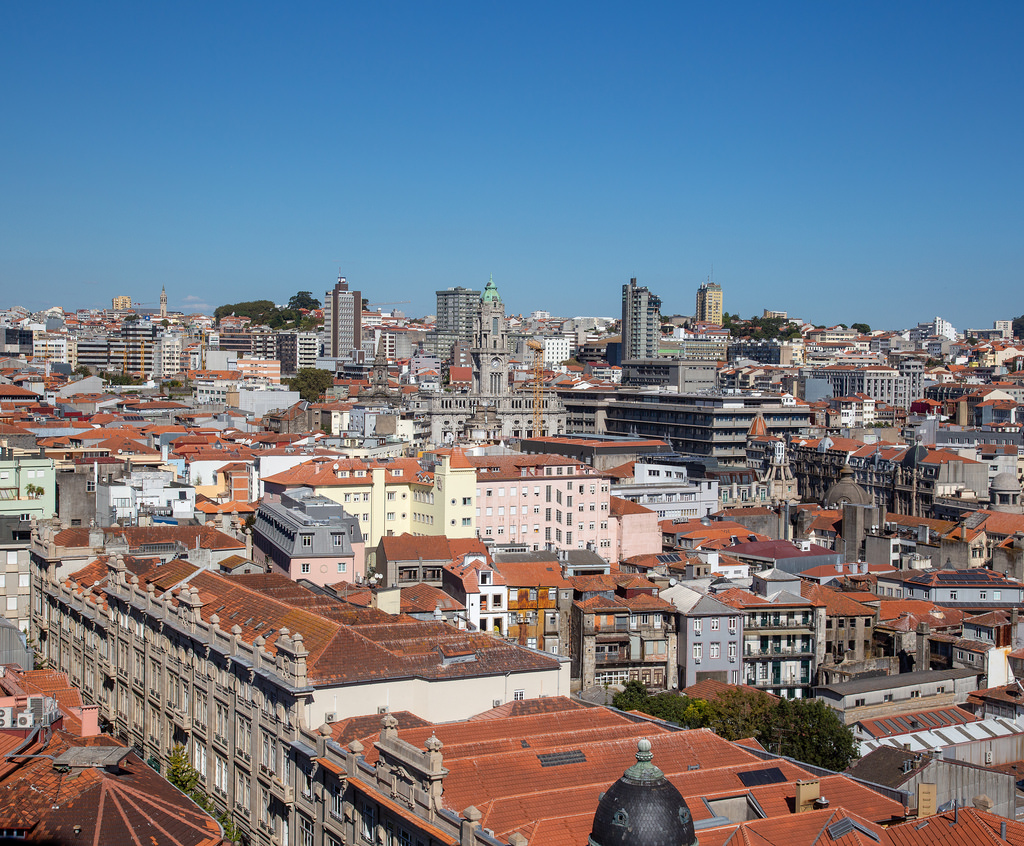camara: (406, 272, 565, 443)
